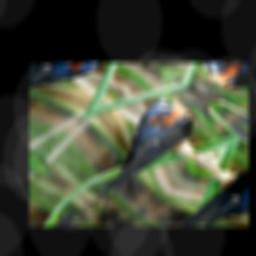Swallow: (57, 92, 211, 209)
